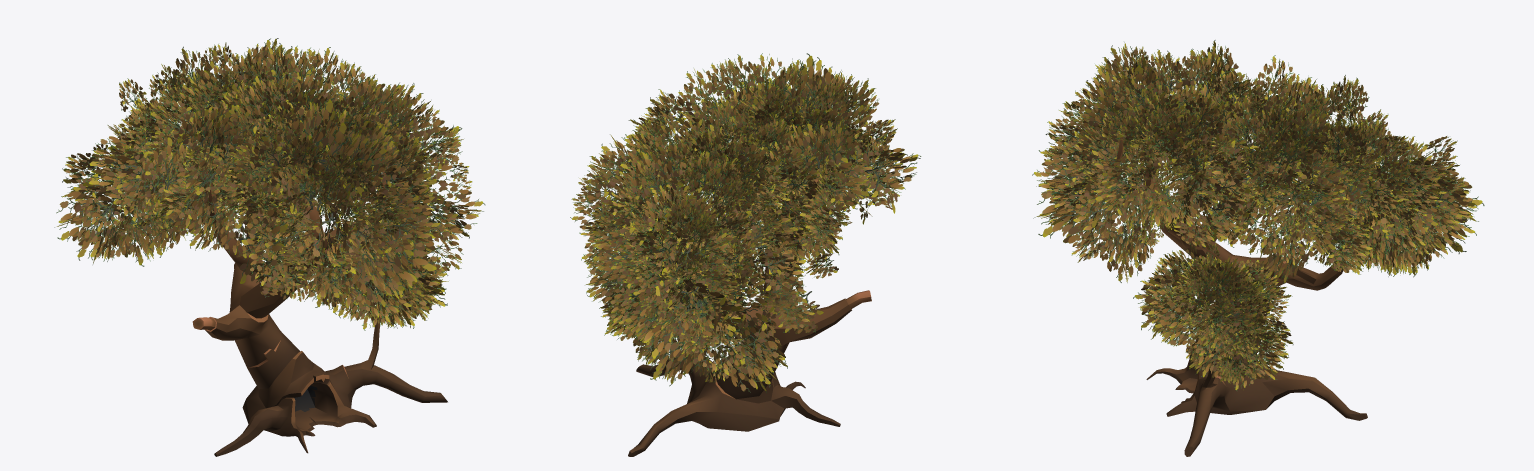
File: Tree_8C.fbx
3 views of the same model, side by side, from view 1: azimuth 30°, elevation 25°; view 2: azimuth 150°, elevation 25°; view 3: azimuth 270°, elevation 25° (orthographic). The views are drawn at different scales.
Parts seen in each view (by area): view 1: Tree_8C; view 2: Tree_8C; view 3: Tree_8C.
Boxes of the visible parts, x1=… form: Tree_8C: x1=54, y1=38, x2=485, y2=456; Tree_8C: x1=570, y1=53, x2=921, y2=456; Tree_8C: x1=1032, y1=40, x2=1484, y2=456.
Size of the model in its own units: 2008 by 2177 by 2885.
